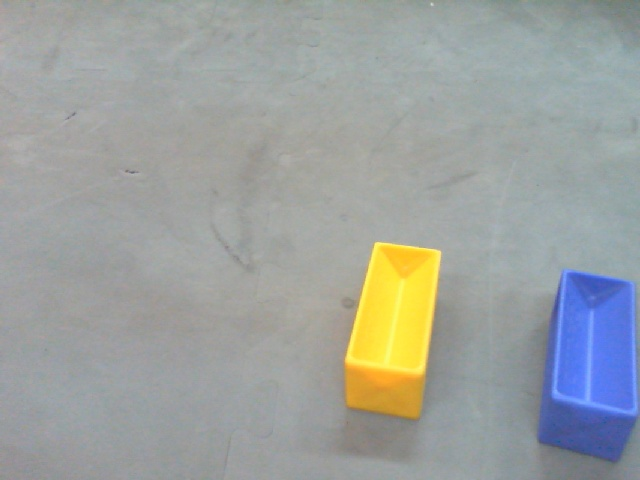BlueSample: (534, 262, 640, 461)
YellowSample: (342, 242, 444, 425)
